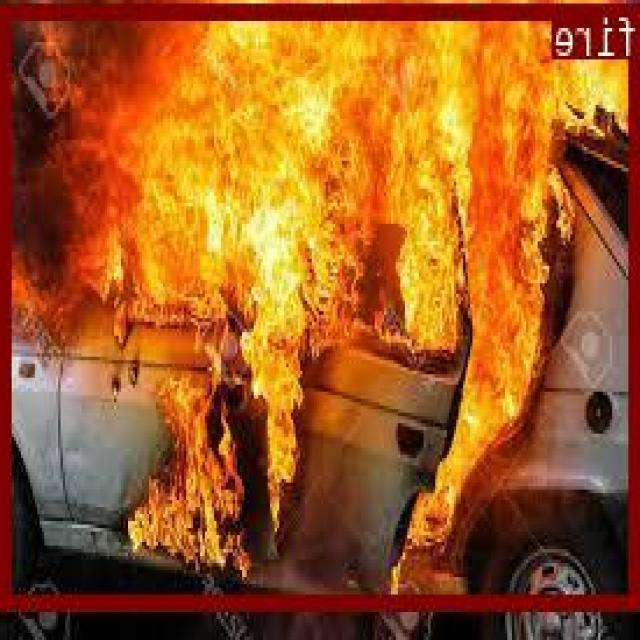fire: (5, 0, 640, 605)
